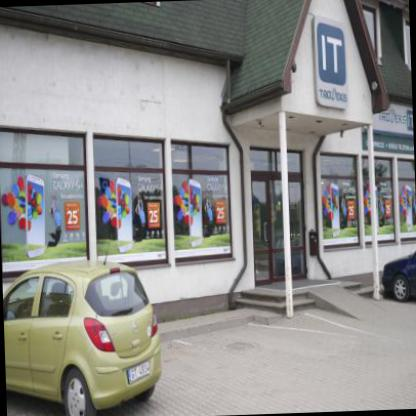car: (1, 238, 165, 415), (380, 240, 415, 303)
